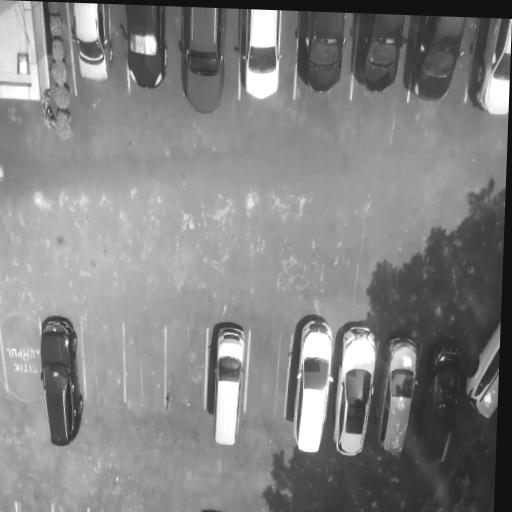Car: (34, 305, 93, 445), (284, 315, 334, 467), (402, 15, 467, 112), (203, 308, 248, 446), (334, 323, 376, 465), (422, 342, 467, 472), (380, 335, 420, 467), (179, 7, 223, 126), (348, 13, 403, 106), (236, 9, 283, 116), (293, 11, 345, 106), (463, 18, 512, 118), (460, 316, 501, 428), (124, 5, 166, 99), (69, 3, 110, 92), (198, 505, 230, 512)
Space Available: (123, 320, 169, 422), (164, 319, 208, 425), (79, 316, 124, 417), (245, 326, 289, 428), (0, 316, 44, 417), (14, 493, 52, 512), (123, 499, 164, 512), (162, 498, 196, 512), (50, 500, 88, 512), (87, 501, 124, 512), (0, 496, 20, 512)
